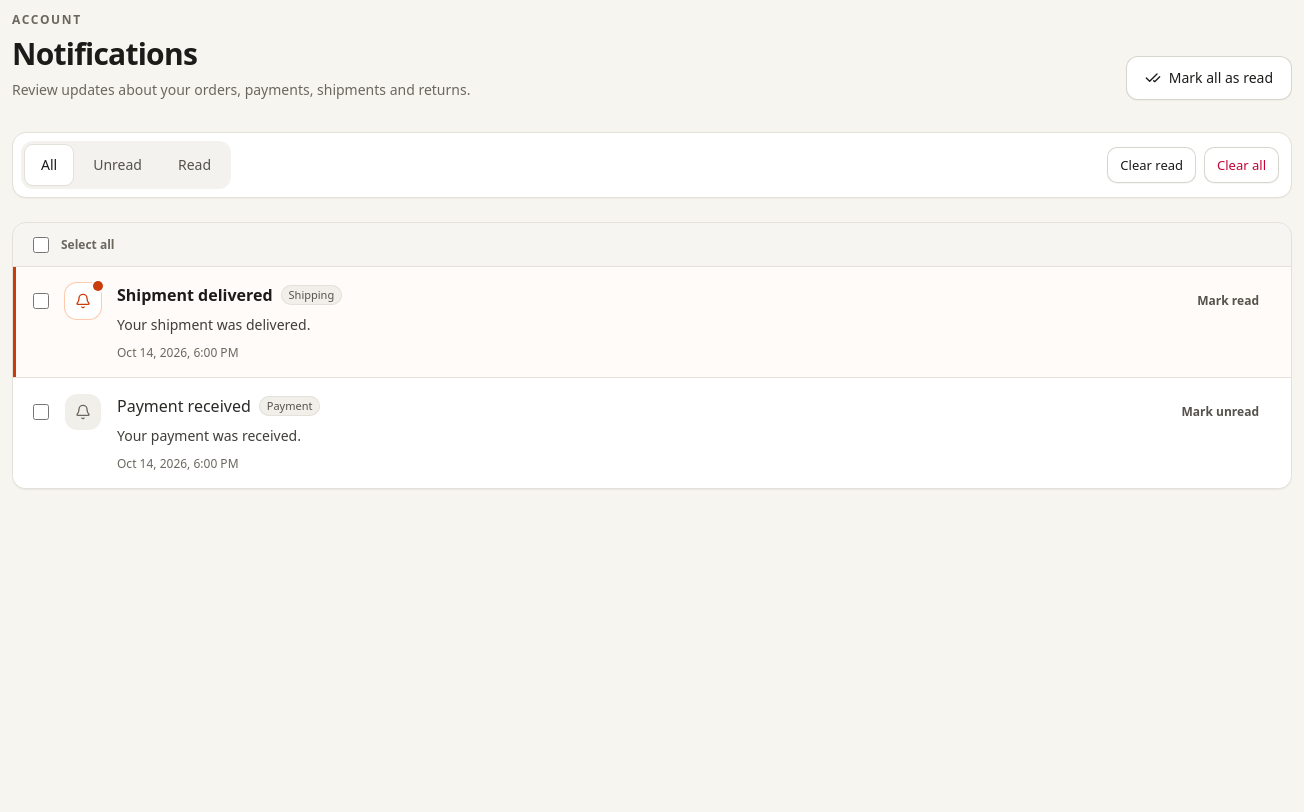
NotificationCenter › toggles one notification to read
Expected: the heading "Shipment delivered" is shown, [117,283,273,307]
Click the button "Mark read" at (1228, 301), box [1185,283,1271,319]
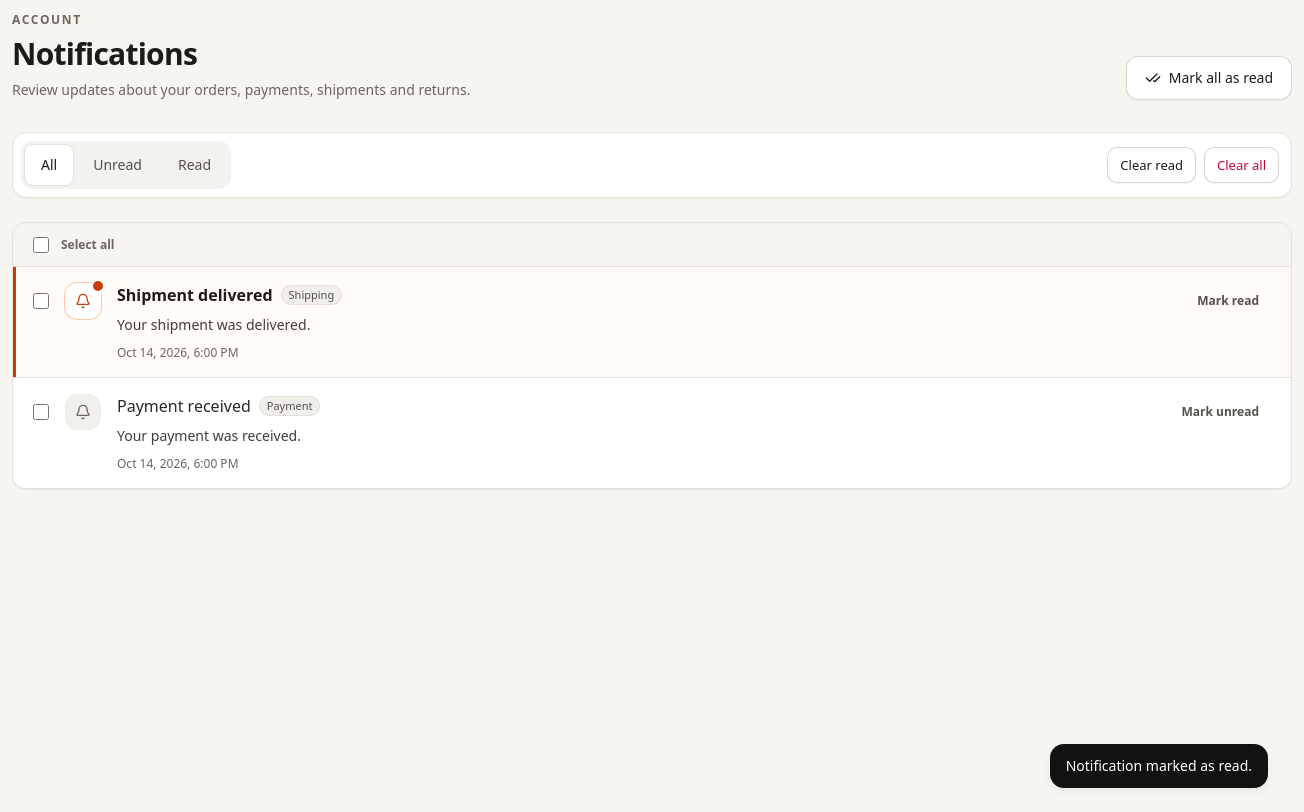
Result: the message reads "Notification marked as read." at [1066,756,1252,775]
